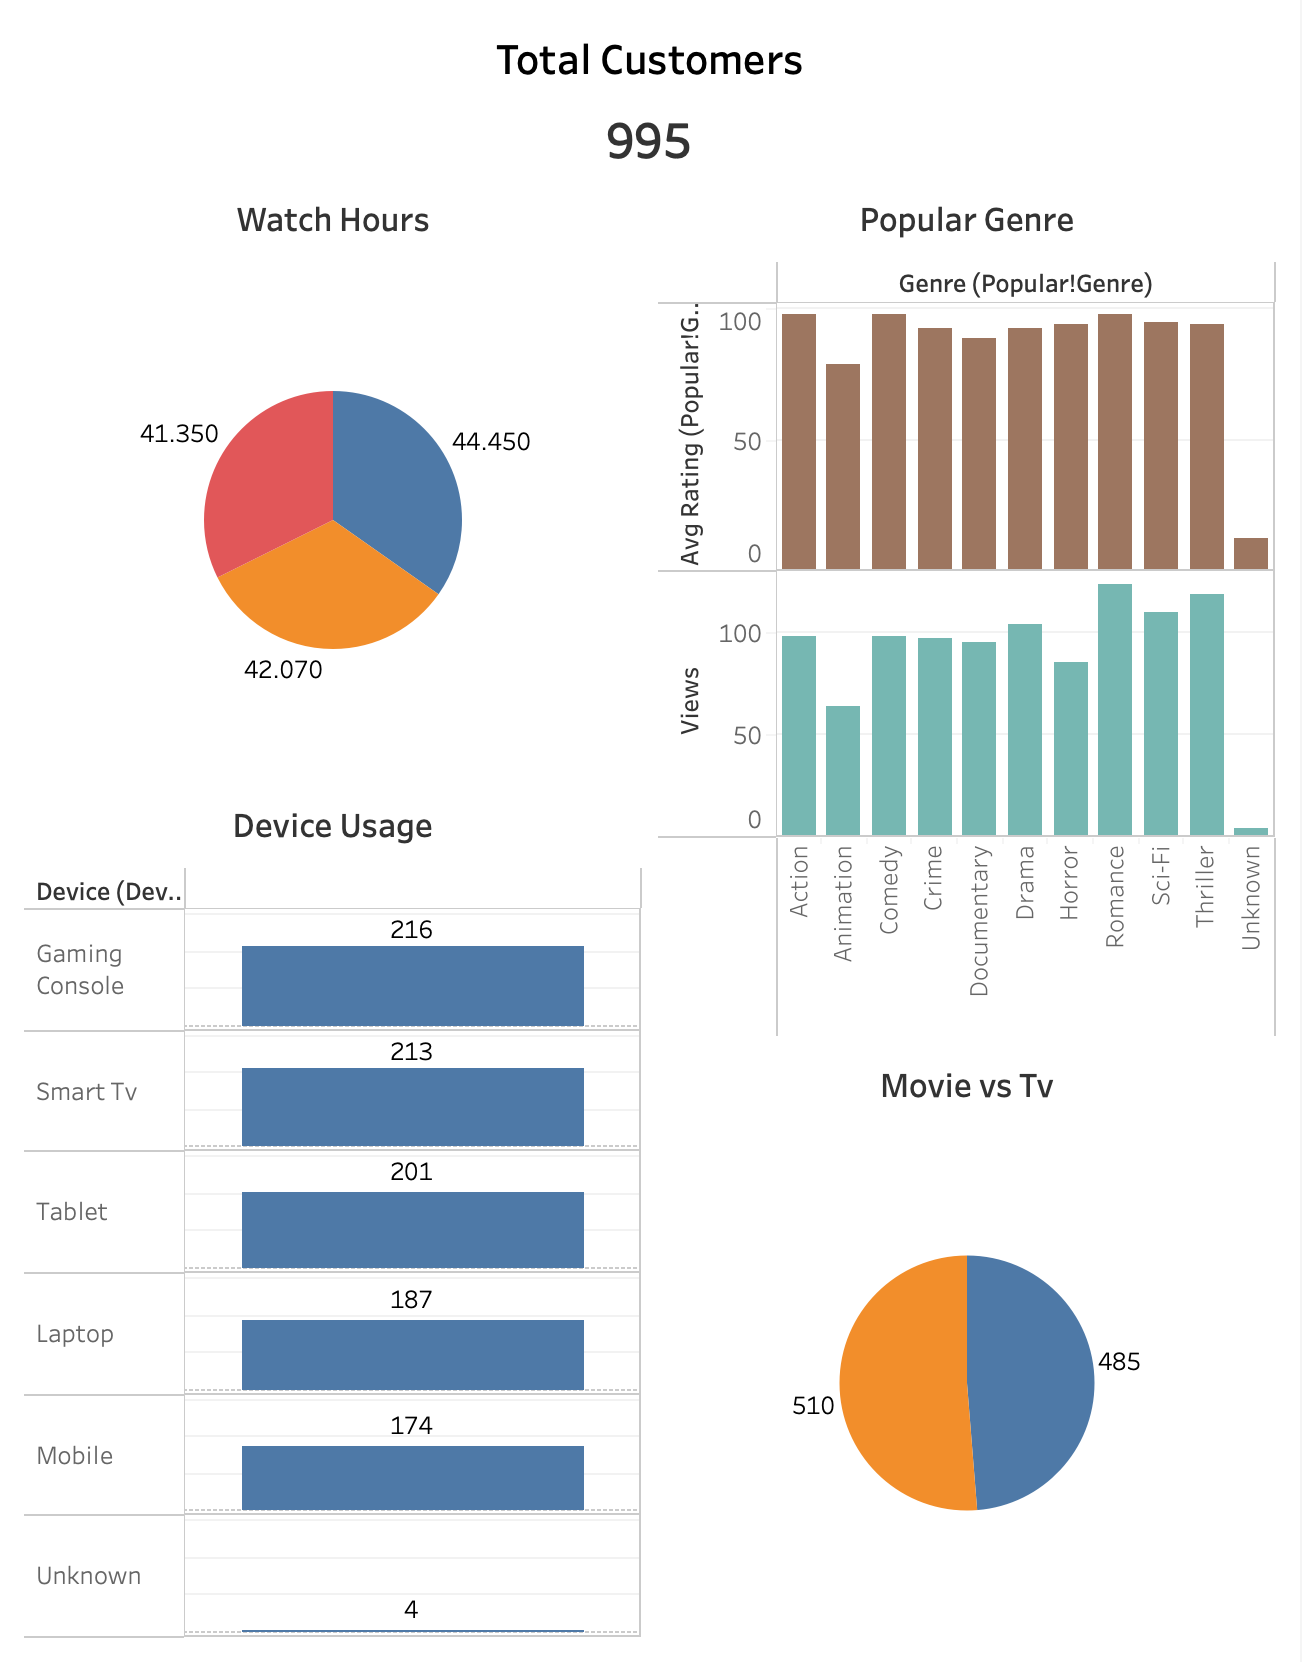

What the dashboard file says about the page in this screenshot:
{"tool":"tableau","page":{"name":"Dashboard 2","canvas":[650,860],"ordinal":1},"visuals":[{"type":"worksheet","title":"Total_Customers","mark":"Text","box":[8,8.3,634,85.8]},{"type":"worksheet","title":"Avg_Watch_Hours","mark":"Pie","box":[8,94.1,317,313.2]},{"type":"worksheet","title":"Genre","mark":"Bar","rows":["Avg_Rating (Popular!Genre)","Views"],"cols":["Genre (Popular!Genre)"],"box":[325,94.1,317,447.6]},{"type":"worksheet","title":"Device_Usage","mark":"Automatic","rows":["Device (Device!Usage)","Users"],"box":[8,407.3,317,444.5]},{"type":"worksheet","title":"Movie_vs_TV_Show","mark":"Pie","box":[325,541.6,317,310.1]}]}

Visuals, with their boxes on the page's 650x860 design canvas (x1, y1, x2, y2). These are canvas units, not pixel positions in the 1302x1662 screenshot, which may show the page scaled, cropped or inside an application window:
"Total_Customers" worksheet (Text marks): BBox(8, 8, 642, 94)
"Avg_Watch_Hours" worksheet (Pie marks): BBox(8, 94, 325, 407)
"Genre" worksheet (Bar marks): BBox(325, 94, 642, 542)
"Device_Usage" worksheet: BBox(8, 407, 325, 852)
"Movie_vs_TV_Show" worksheet (Pie marks): BBox(325, 542, 642, 852)
